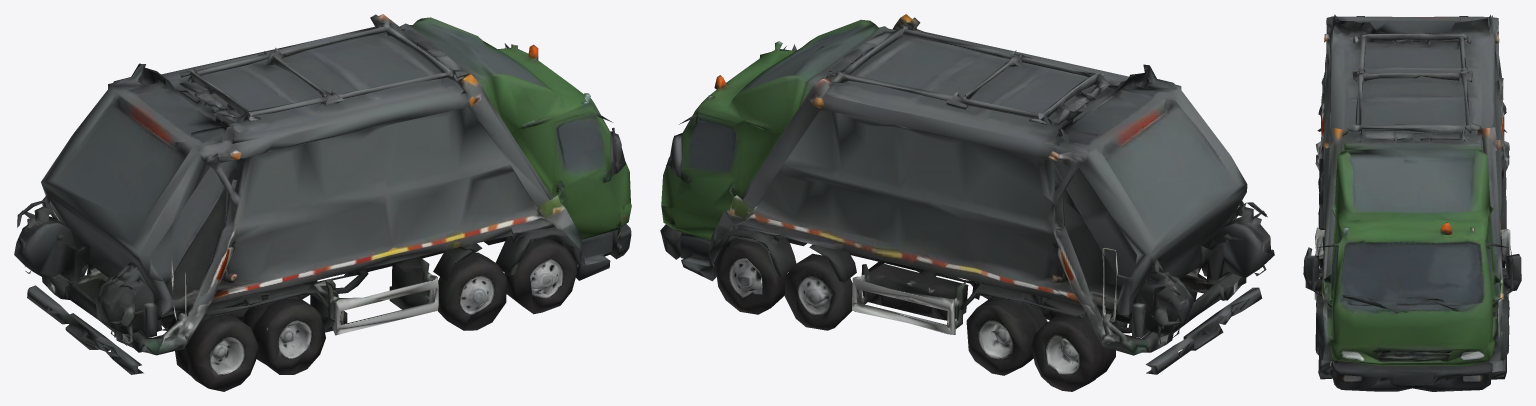
The model's file is garbage_truck.glb.
3 renders of one model, left to right at view 1: azimuth 30°, elevation 25°; view 2: azimuth 150°, elevation 25°; view 3: azimuth 270°, elevation 25°, orthographic. The views are drawn at different scales.
Parts seen in each view (by area): view 1: tripo_node_51fe2a39-cf8f-49e2-b979-b38207dfc8ad; view 2: tripo_node_51fe2a39-cf8f-49e2-b979-b38207dfc8ad; view 3: tripo_node_51fe2a39-cf8f-49e2-b979-b38207dfc8ad.
Boxes of the visible parts, x1=… form: tripo_node_51fe2a39-cf8f-49e2-b979-b38207dfc8ad: x1=14, y1=14, x2=631, y2=391; tripo_node_51fe2a39-cf8f-49e2-b979-b38207dfc8ad: x1=660, y1=14, x2=1274, y2=391; tripo_node_51fe2a39-cf8f-49e2-b979-b38207dfc8ad: x1=1303, y1=14, x2=1521, y2=391.
Size of the model in its own units: 0.9996 by 0.4596 by 0.3976.
1 material, 1 textured.
